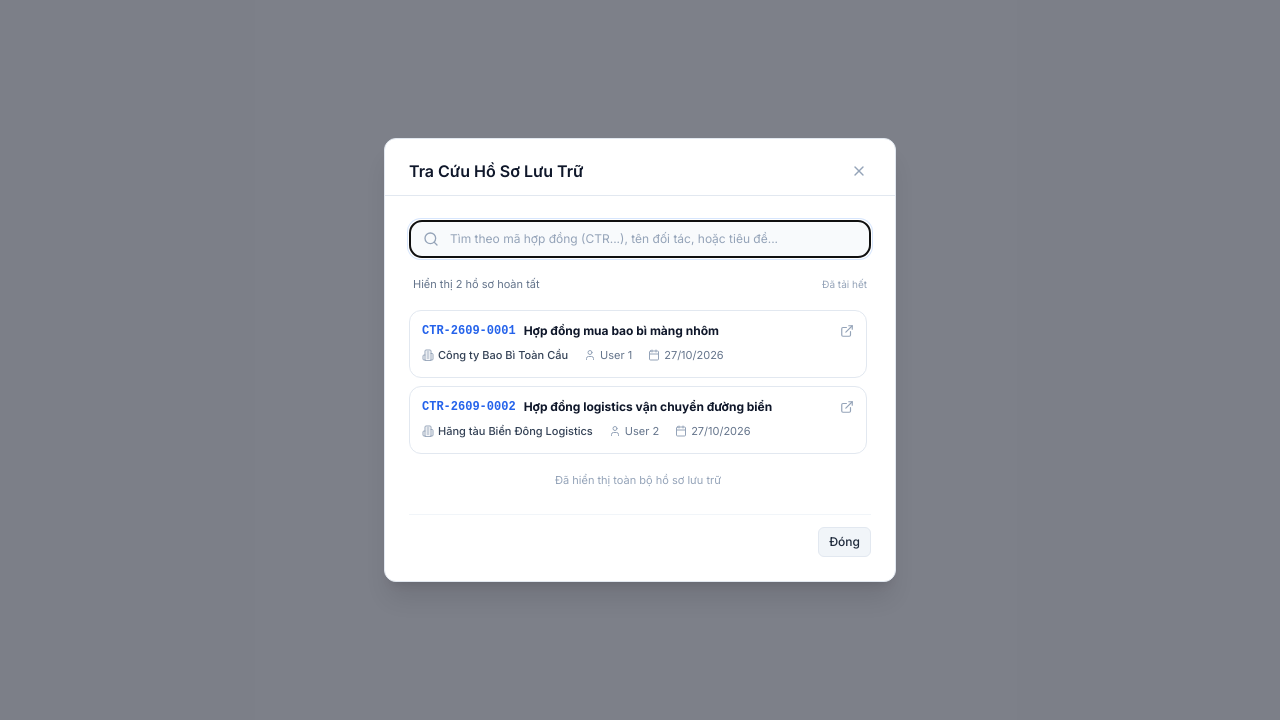
Scenario: ArchivedSearchModal Component › filters contracts instantly on client-side when typing keyword
This screenshot has width=1280, height=720.
Expected: the heading "Hợp đồng mua bao bì màng nhôm" is shown, [524,323,719,339]
Type "logistics" into the field with placeholder "Tìm theo mã hợp đồng (CTR...), tên đối tác, hoặc tiêu đề...".
click(640, 239); type("logistics")  # box [409,220,871,258]
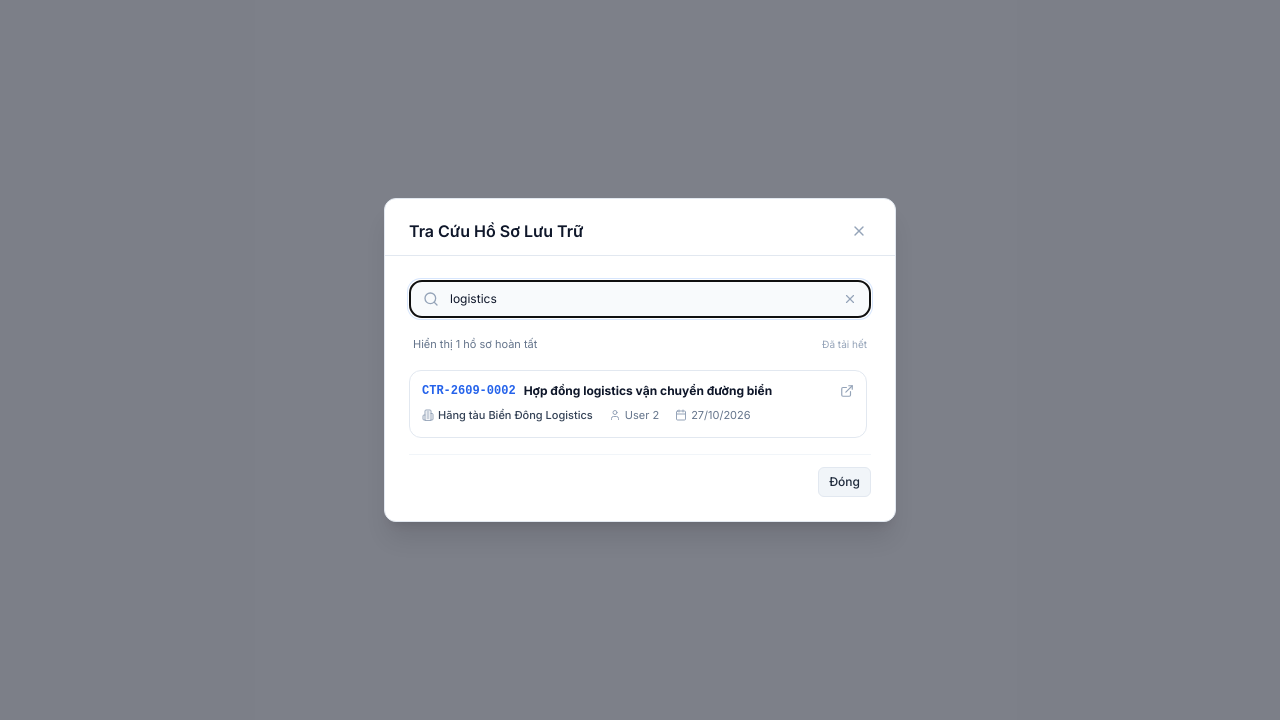
Expected: the heading "Hợp đồng logistics vận chuyển đường biển" is shown, [524,383,772,399]
Expected: the heading "Hợp đồng mua bao bì màng nhôm" is gone
